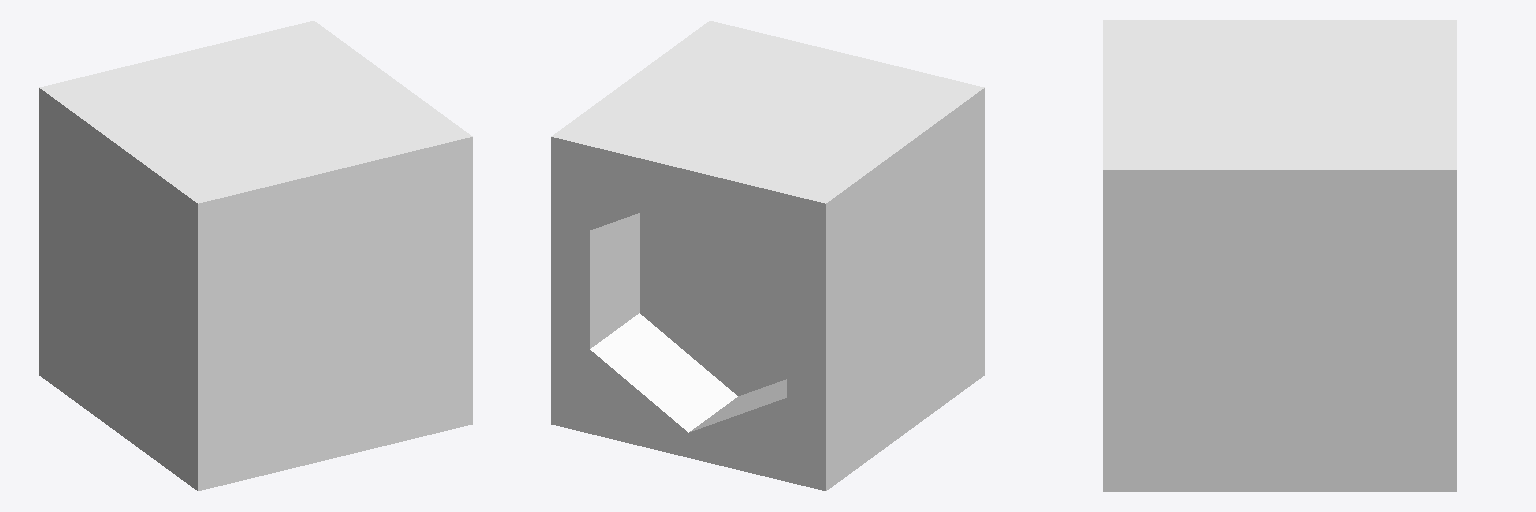
robot.urdf — Hexagon_cube_bottle_preprocessed:
<?xml version="1.0" ?>
<robot name="Hexagon_cube_bottle_preprocessed">
  <link name="baseLink">
    <contact>
    	<friction_anchor/>
    	   <lateral_friction value="1.0"/>
    </contact>
    <inertial>
      <origin rpy="0 0 0" xyz="0 0 0"/>
       <!-- mass controls penetration -->
       <mass value=".5"/>
       <inertia ixx="1e-4" ixy="0" ixz="0" iyy="1e-4" iyz="0" izz="1e-4"/>
    </inertial>
    <visual>
      <origin rpy="0 0 0" xyz="0 0 0"/>
      <geometry>
        <mesh filename="Hexagon_cube_bottle_preprocessed.obj"/>
      </geometry>
       <material name="white">
        <color rgba="1 1 1 1"/>
      </material>
    </visual>
    <collision>
      <origin rpy="0 0 0" xyz="0 0 0"/>
      <geometry>
        <mesh filename="Hexagon_cube_bottle_preprocessed.obj"/>
      </geometry>
    </collision>
  </link>
</robot>

--- Facts derived from the render (not from the file) ---
3 views of the same robot in one strip: view 1: azimuth 30°, elevation 25°; view 2: azimuth 150°, elevation 25°; view 3: azimuth 270°, elevation 25° (orthographic).
Robot: Hexagon_cube_bottle_preprocessed — 1 links, 0 joints (none); root link baseLink; default pose: all joints at 0.
Links seen in each view (by area): view 1: baseLink; view 2: baseLink; view 3: baseLink.
Link boxes in pixels (left/top/right/bottom): baseLink: left=39, top=21, right=472, bottom=490; baseLink: left=551, top=21, right=984, bottom=490; baseLink: left=1103, top=20, right=1456, bottom=491.
Size in the robot's own frame: 0.08 by 0.08 by 0.08 metres.
1 mesh visuals loaded from 1 distinct referenced files (1 OBJ).